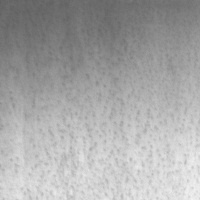pitted_surface: (29, 18, 194, 196), (23, 8, 147, 89)
